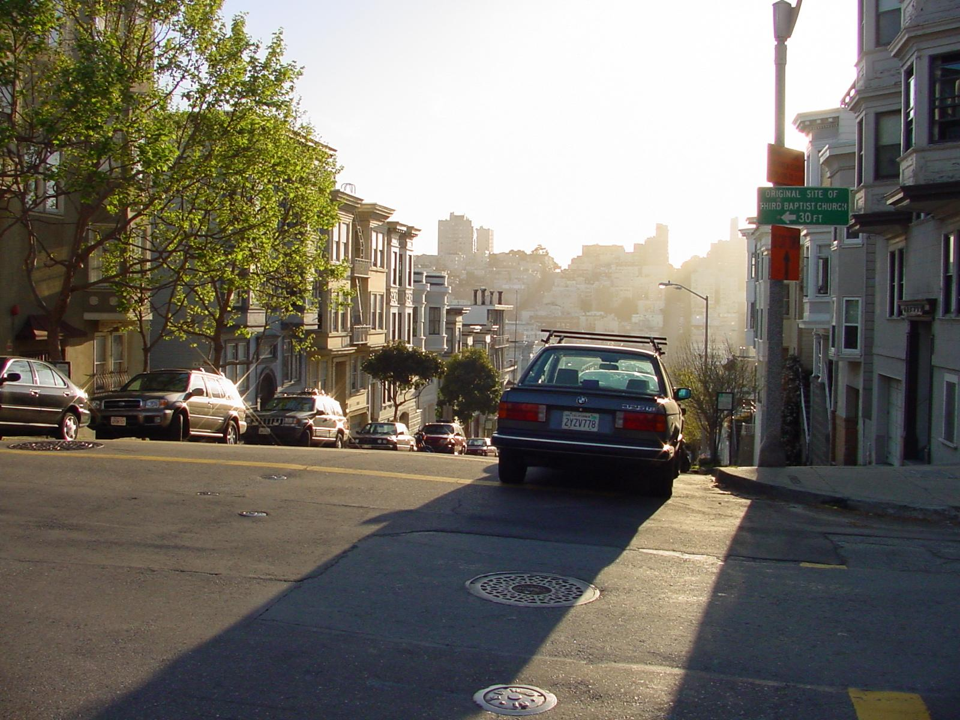car: (490, 327, 693, 498), (84, 367, 249, 446), (1, 355, 92, 443), (237, 387, 351, 450), (346, 421, 418, 453), (414, 418, 468, 456), (459, 436, 499, 459)
motorbike: (400, 430, 435, 454)
